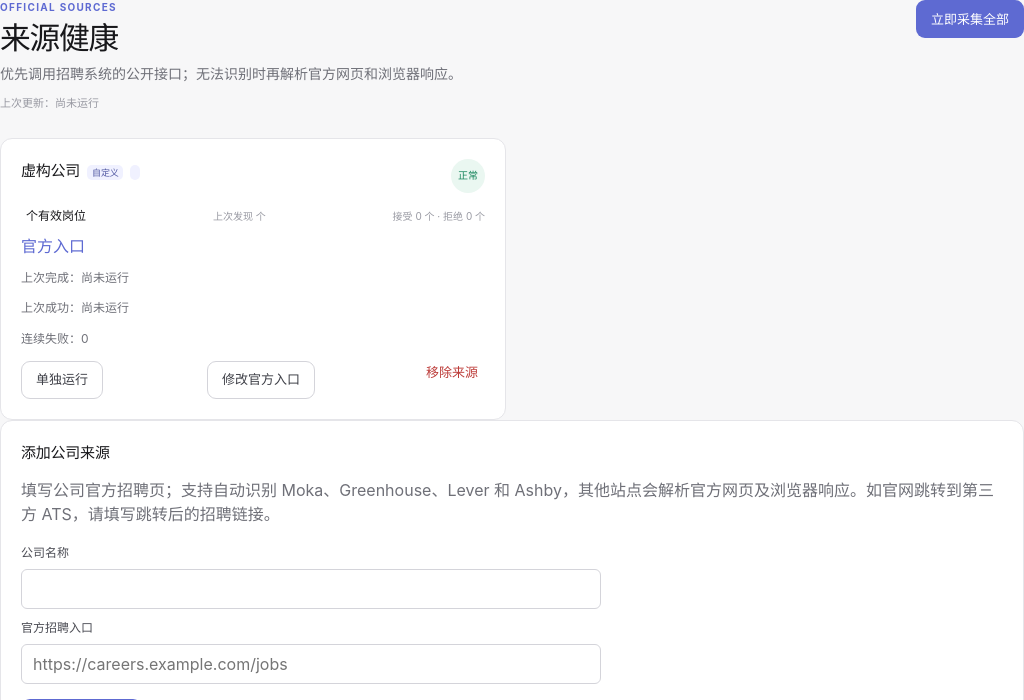
Test: 关键页面交互 › 数据来源可修改官方入口并立即重新解析
Click the button "修改官方入口" at (261, 380), box [207,361,315,399]
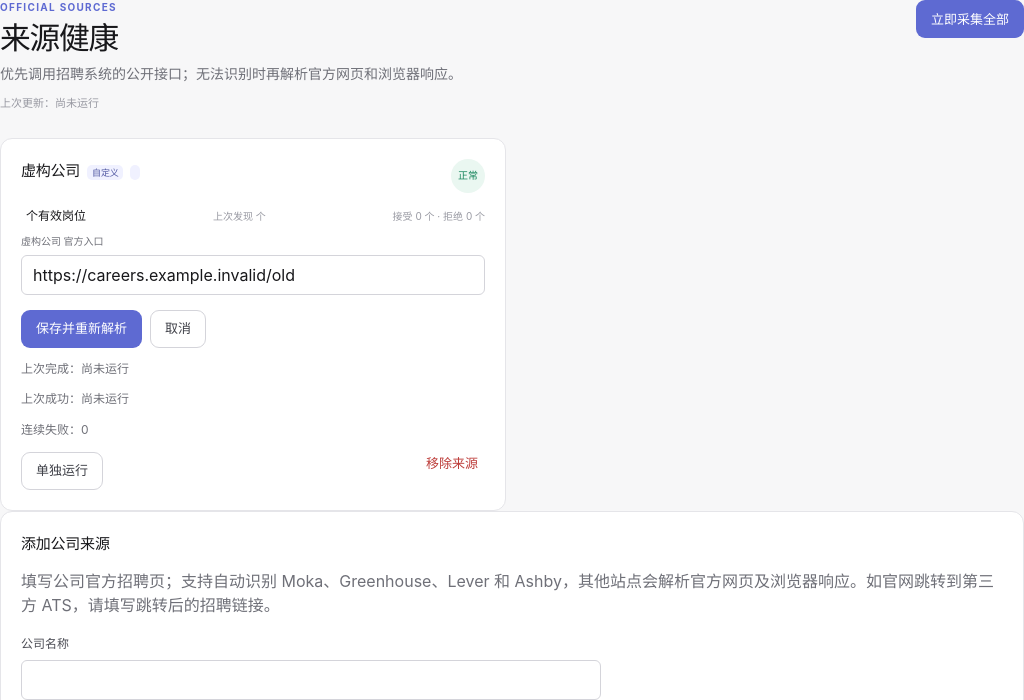
Replace the text in the field labelled "虚构公司 官方入口" with "https://careers.example.invalid/new" at (253, 275), box [21,255,485,295]
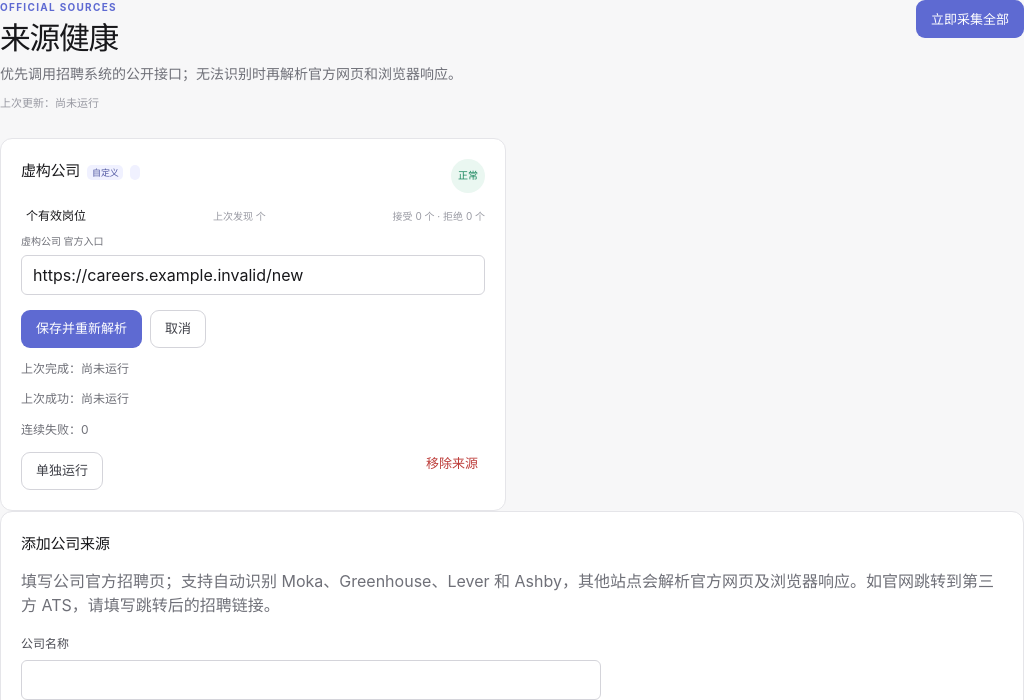
Click the button "保存并重新解析" at (82, 329), box [21,310,142,348]
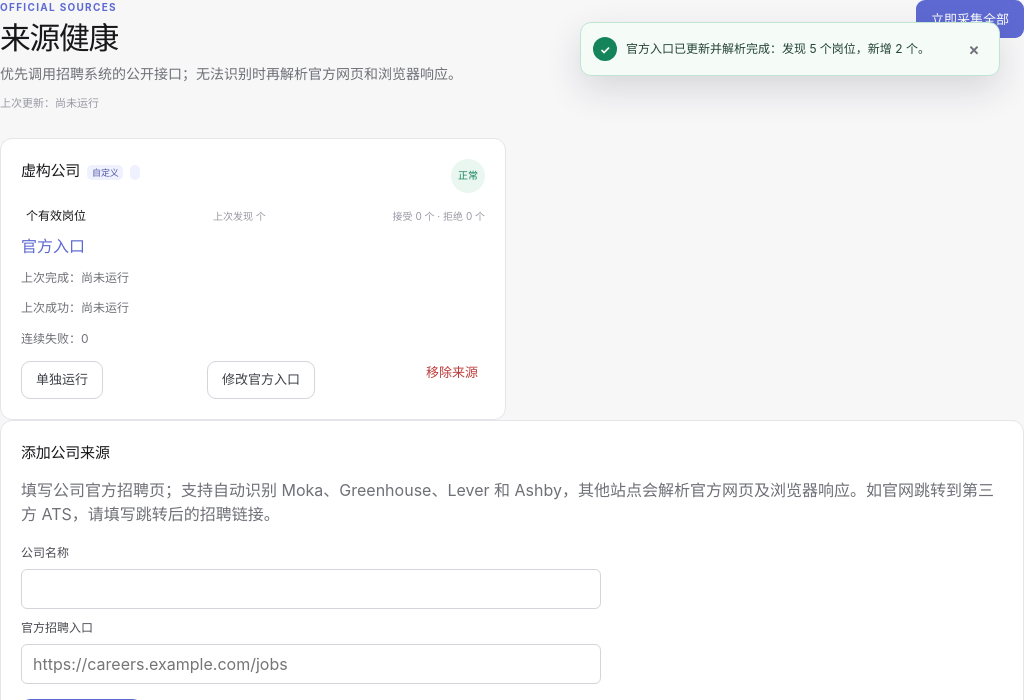
Expected: the text "官方入口已更新并解析完成：发现 5 个岗位，新增 2 个。" is shown, [626,40,952,58]
